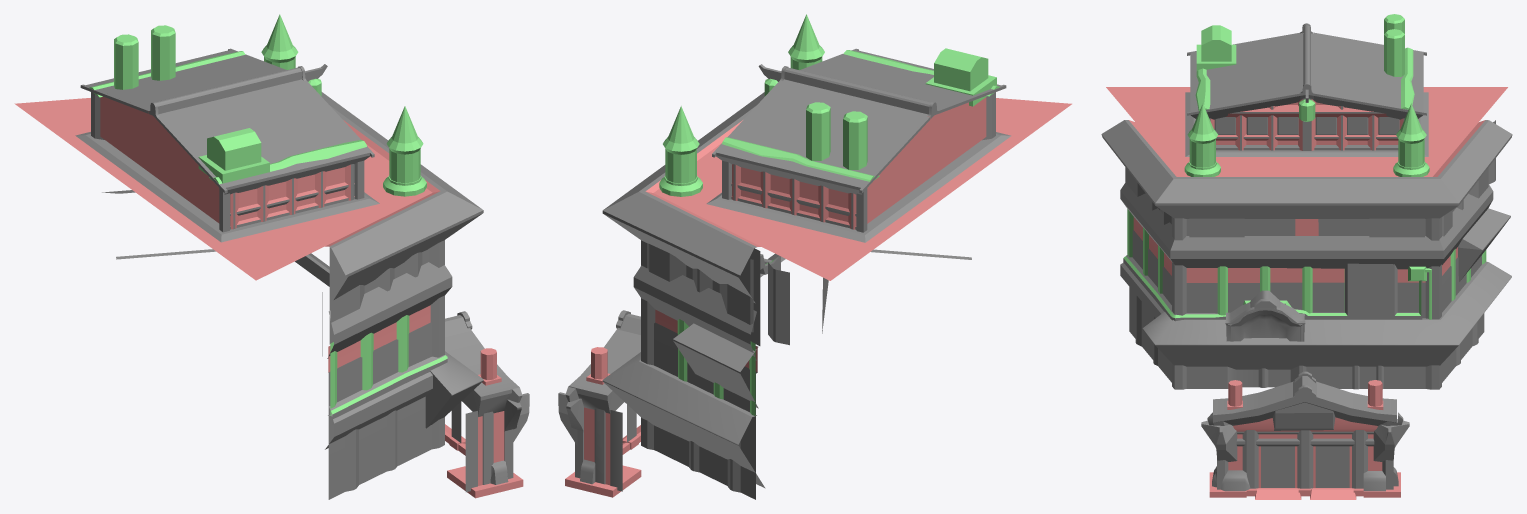
File: COL_SM_ENV_KNVLLG03_AreaB_BuildingB.gltf
3 views of the same model, side by side, from view 1: azimuth 30°, elevation 25°; view 2: azimuth 150°, elevation 25°; view 3: azimuth 270°, elevation 25° (orthographic). The views are drawn at different scales.
Visible parts, largest first — view 1: COL_SM_ENV_KNVLLG03_AreaB_BuildingB; view 2: COL_SM_ENV_KNVLLG03_AreaB_BuildingB; view 3: COL_SM_ENV_KNVLLG03_AreaB_BuildingB.
Part boxes in pixels (bbox=[...]): COL_SM_ENV_KNVLLG03_AreaB_BuildingB: bbox=[14, 14, 529, 499]; COL_SM_ENV_KNVLLG03_AreaB_BuildingB: bbox=[558, 14, 1071, 499]; COL_SM_ENV_KNVLLG03_AreaB_BuildingB: bbox=[1101, 14, 1512, 499].
Size of the model in its own units: 25.39 by 30.99 by 31.74.
